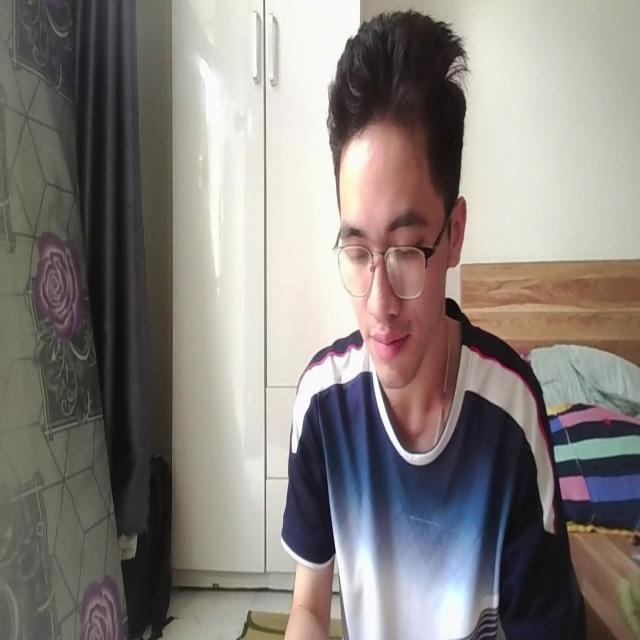student: (280, 6, 577, 640)
